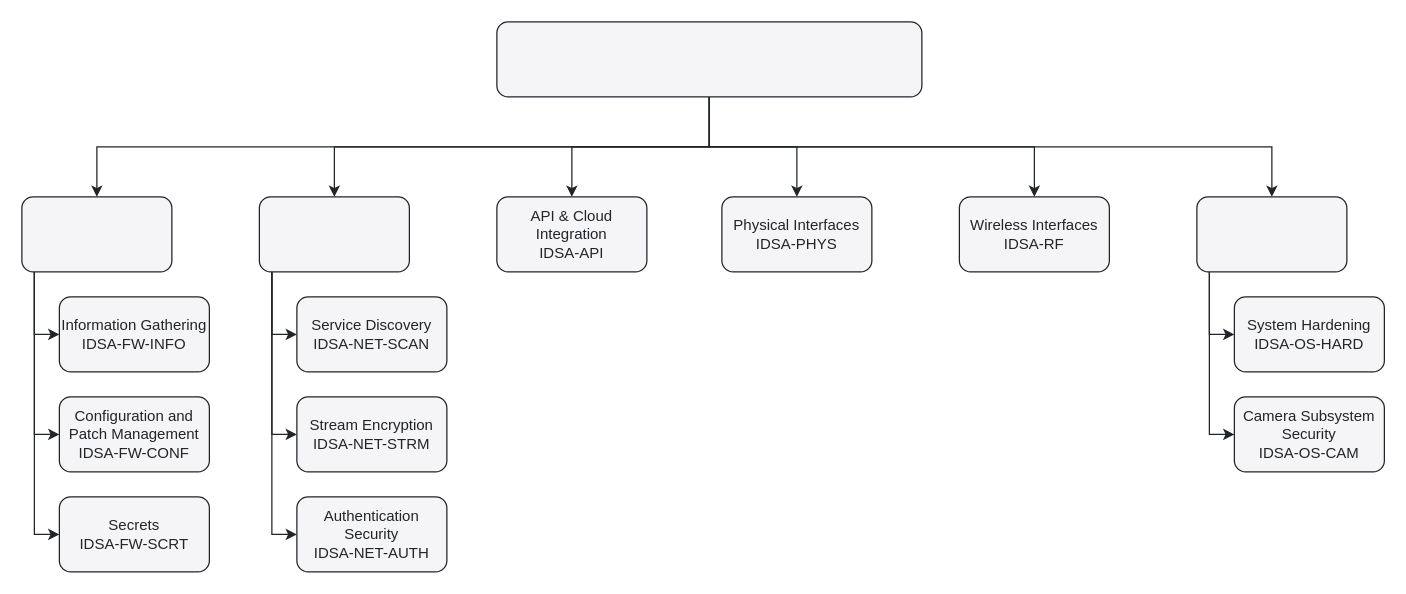
The diagram is 1406 pixels wide and 594 high, and some of its shapes have lost their labels. Each missing label, with the centre of its shape:
Firmware IDSA-FW: (96,234)
IoT Device Security Assessment IDSA: (709,59)
Network Data Services IDSA-NET: (333,234)
Operating System & UI IDSA-OS: (1271,234)
